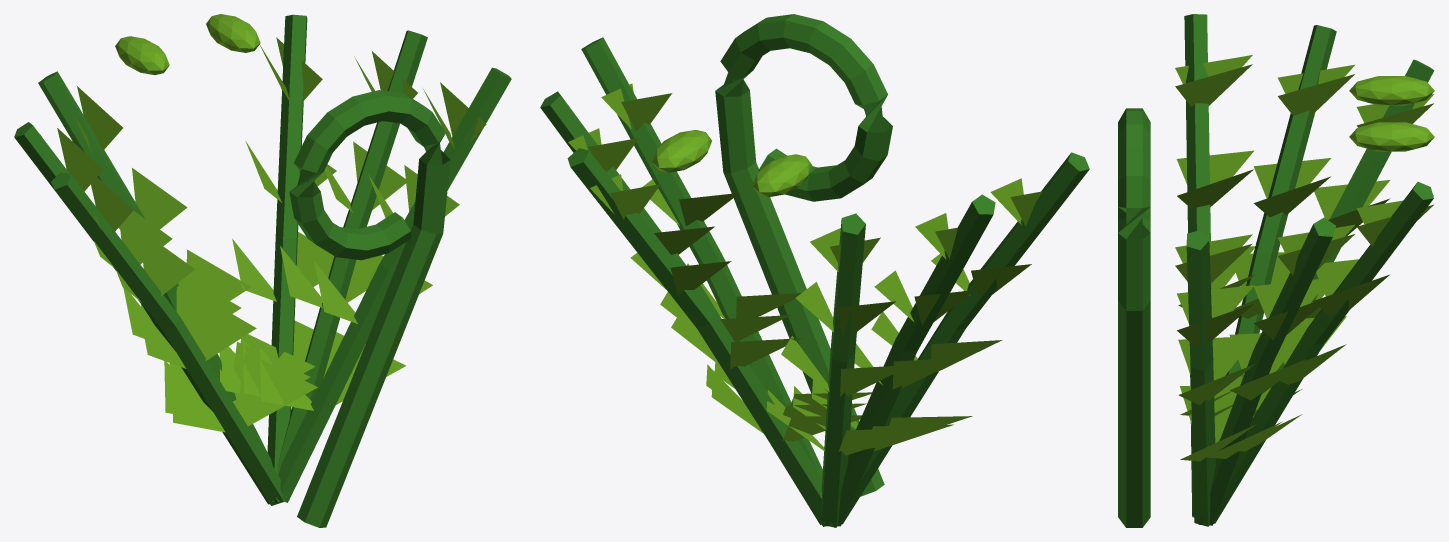
File: forest_fern.glb
3 renders of one model, left to right at view 1: azimuth 30°, elevation 25°; view 2: azimuth 150°, elevation 25°; view 3: azimuth 270°, elevation 25°, orthographic. The views are drawn at different scales.
Visible parts, largest first — view 1: Curled fern fiddlehead, Fern central stem.002, Fern central stem.005, Fern central stem.003, Fern central stem.004, Fern central stem, Fern leaflet.017, Fern leaflet.019, Fern central stem.001, Fern leaflet.021, Fern leaflet.005, Fern leaflet.016 (+23 smaller); view 2: Curled fern fiddlehead, Fern central stem.003, Fern central stem.005, Fern central stem.002, Fern central stem.001, Fern central stem, Fern central stem.004, Fern unfolding leaf tip, Fern unfolding leaf tip.001, Fern leaflet, Fern leaflet.010, Fern leaflet.026 (+23 smaller); view 3: Curled fern fiddlehead, Fern central stem.003, Fern central stem.004, Fern central stem.001, Fern central stem.005, Fern central stem.002, Fern central stem, Fern unfolding leaf tip, Fern unfolding leaf tip.001, Fern leaflet.042, Fern leaflet.023, Fern leaflet.015 (+31 smaller).
Part boxes in pixels (x1,y1,x2,y2): Curled fern fiddlehead: [289, 90, 450, 527]; Fern central stem.002: [51, 172, 284, 505]; Fern central stem.005: [278, 67, 511, 502]; Fern central stem.003: [267, 14, 307, 497]; Fern central stem.004: [277, 30, 427, 498]; Fern central stem: [38, 71, 284, 501]; Fern leaflet.017: [237, 352, 317, 426]; Fern leaflet.019: [191, 290, 256, 360]; Fern central stem.001: [14, 122, 279, 504]; Fern leaflet.021: [139, 230, 194, 296]; Fern leaflet.005: [132, 168, 187, 229]; Fern leaflet.016: [172, 370, 225, 432]; Curled fern fiddlehead: [715, 14, 892, 496]; Fern central stem.003: [567, 148, 825, 526]; Fern central stem.005: [581, 37, 824, 522]; Fern central stem.002: [830, 152, 1089, 526]; Fern central stem.001: [825, 194, 995, 526]; Fern central stem: [821, 213, 865, 527]; Fern central stem.004: [540, 91, 830, 524]; Fern unfolding leaf tip: [752, 154, 812, 197]; Fern unfolding leaf tip.001: [652, 130, 711, 172]; Fern leaflet: [838, 428, 927, 455]; Fern leaflet.010: [892, 357, 964, 389]; Fern leaflet.026: [730, 338, 801, 368]; Curled fern fiddlehead: [1118, 108, 1150, 527]; Fern central stem.003: [1194, 182, 1433, 525]; Fern central stem.004: [1193, 217, 1335, 525]; Fern central stem.001: [1218, 25, 1336, 441]; Fern central stem.005: [1186, 230, 1215, 526]; Fern central stem.002: [1184, 14, 1211, 517]; Fern central stem: [1214, 59, 1434, 522]; Fern unfolding leaf tip: [1349, 76, 1434, 105]; Fern unfolding leaf tip.001: [1349, 122, 1434, 151]; Fern leaflet.042: [1178, 336, 1255, 380]; Fern leaflet.023: [1175, 64, 1252, 107]; Fern leaflet.015: [1278, 74, 1354, 115].
Bounding box in the file's own units: 0.7049 × 0.6141 × 0.406.
